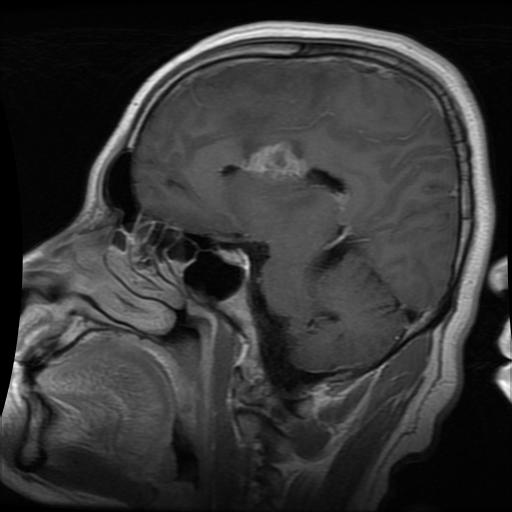Gliomia_tumour: (244, 140, 308, 181)
